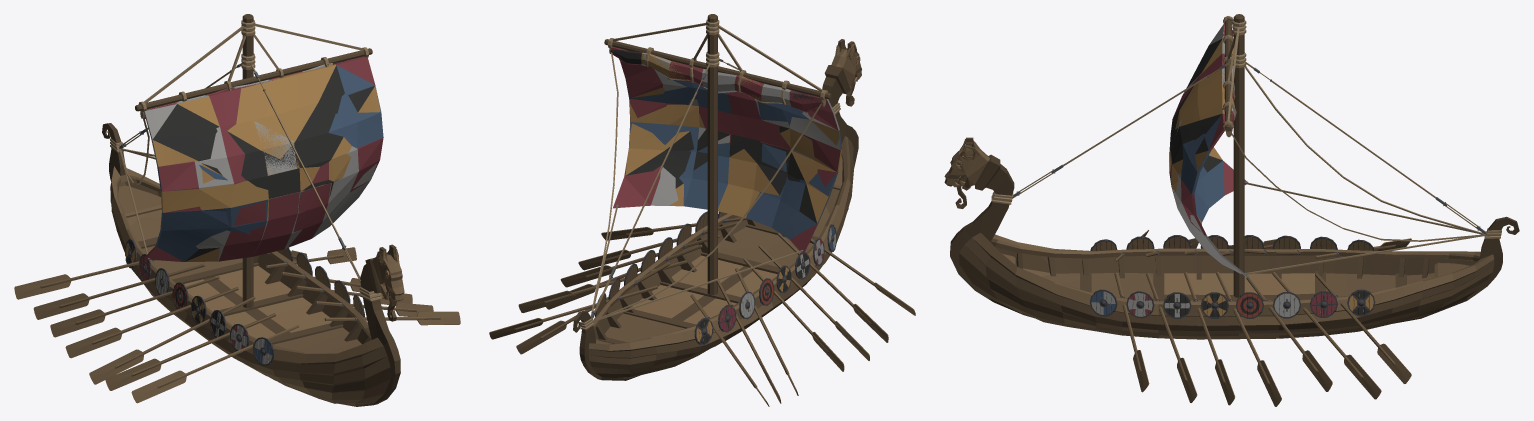
The model's file is Barco.glb.
The picture shows the model from 3 angles, left to right: view 1: azimuth 30°, elevation 25°; view 2: azimuth 150°, elevation 25°; view 3: azimuth 270°, elevation 25°; orthographic projection. The views are drawn at different scales.
Visible parts, largest first — view 1: SM_Veh_Boat_01, SM_Veh_Sail_Open_04, SM_Veh_Sail_Open_01, SM_Veh_Oars_01, SM_Veh_Sail_Open_02, SM_Veh_Sail_Open_03, SM_Veh_BoatHead_01, SM_Veh_BoatHead_02, SM_Veh_Sail_Closed_01; view 2: SM_Veh_Boat_01, SM_Veh_Sail_Open_04, SM_Veh_Oars_01, SM_Veh_Sail_Open_03, SM_Veh_Sail_Open_01, SM_Veh_Sail_Open_02, SM_Veh_Sail_Closed_01, SM_Veh_Sail_Closed_04, SM_Veh_BoatHead_02, SM_Veh_BoatHead_01; view 3: SM_Veh_Boat_01, SM_Veh_Oars_01, SM_Veh_Sail_Open_04, SM_Veh_Sail_Open_01, SM_Veh_Sail_Open_03, SM_Veh_Sail_Closed_01, SM_Veh_BoatHead_02, SM_Veh_Sail_Open_02, SM_Veh_BoatHead_01.
Part boxes in pixels (left/top/right/bottom): SM_Veh_Boat_01: left=102, top=14, right=400, bottom=406; SM_Veh_Sail_Open_04: left=152, top=64, right=380, bottom=261; SM_Veh_Sail_Open_01: left=119, top=56, right=383, bottom=261; SM_Veh_Oars_01: left=14, top=247, right=460, bottom=403; SM_Veh_Sail_Open_02: left=144, top=80, right=377, bottom=261; SM_Veh_Sail_Open_03: left=157, top=65, right=383, bottom=232; SM_Veh_BoatHead_01: left=378, top=244, right=404, bottom=321; SM_Veh_BoatHead_02: left=372, top=248, right=401, bottom=299; SM_Veh_Sail_Closed_01: left=120, top=57, right=359, bottom=184; SM_Veh_Boat_01: left=573, top=14, right=858, bottom=380; SM_Veh_Sail_Open_04: left=624, top=87, right=839, bottom=223; SM_Veh_Oars_01: left=489, top=217, right=915, bottom=406; SM_Veh_Sail_Open_03: left=625, top=80, right=841, bottom=239; SM_Veh_Sail_Open_01: left=590, top=59, right=838, bottom=321; SM_Veh_Sail_Open_02: left=620, top=77, right=840, bottom=223; SM_Veh_Sail_Closed_01: left=590, top=47, right=825, bottom=320; SM_Veh_Sail_Closed_04: left=595, top=49, right=825, bottom=319; SM_Veh_BoatHead_02: left=831, top=43, right=859, bottom=86; SM_Veh_BoatHead_01: left=832, top=39, right=861, bottom=106; SM_Veh_Boat_01: left=950, top=14, right=1519, bottom=339; SM_Veh_Oars_01: left=1114, top=230, right=1411, bottom=406; SM_Veh_Sail_Open_04: left=1169, top=38, right=1224, bottom=224; SM_Veh_Sail_Open_01: left=1172, top=24, right=1485, bottom=275; SM_Veh_Sail_Open_03: left=1169, top=72, right=1224, bottom=222; SM_Veh_Sail_Closed_01: left=1222, top=26, right=1483, bottom=241; SM_Veh_BoatHead_02: left=951, top=139, right=987, bottom=189; SM_Veh_Sail_Open_02: left=1170, top=24, right=1248, bottom=276; SM_Veh_BoatHead_01: left=944, top=137, right=989, bottom=208.
Size of the model in its own units: 9.77 by 9.53 by 15.4.
Materials: 1 (1 with a texture image).
